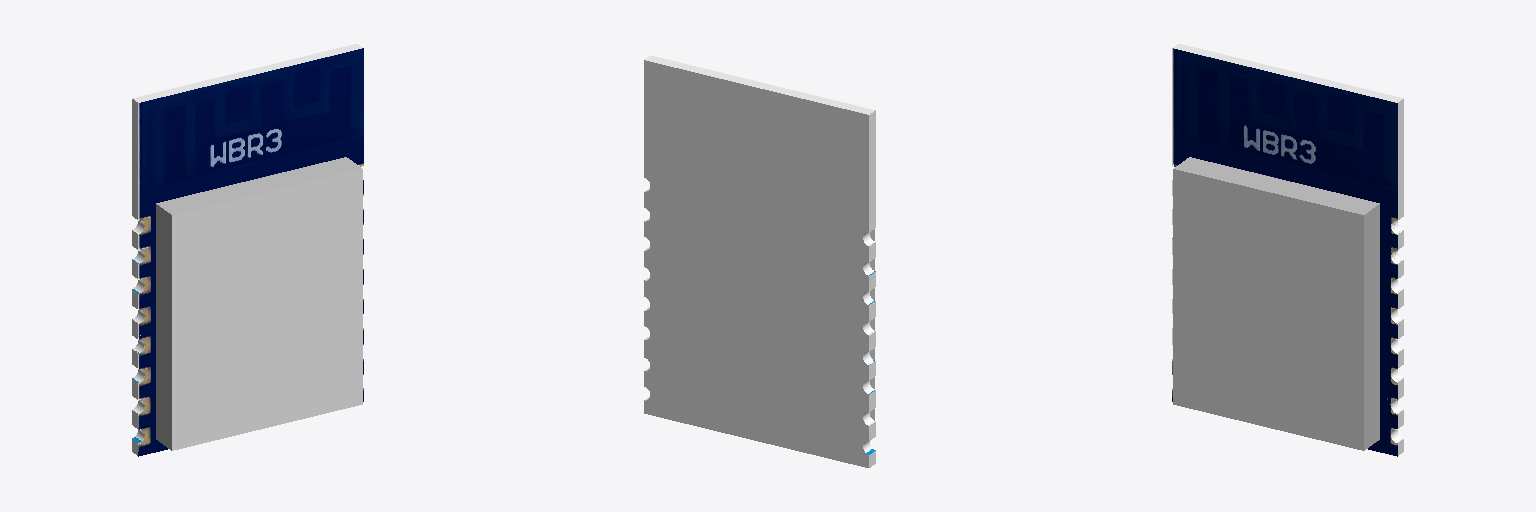
The picture shows the model from 3 angles: view 1: azimuth 30°, elevation 25°; view 2: azimuth 150°, elevation 25°; view 3: azimuth 330°, elevation 25°; orthographic projection.
Parts seen in each view (by area): view 1: Object.1, Object.2; view 2: Object.2; view 3: Object.1, Object.2.
Boxes of the visible parts, x1=… form: Object.1: x1=156, y1=157, x2=362, y2=450; Object.2: x1=132, y1=44, x2=363, y2=456; Object.2: x1=644, y1=55, x2=875, y2=467; Object.1: x1=1173, y1=157, x2=1379, y2=450; Object.2: x1=1172, y1=44, x2=1403, y2=456.
Size of the model in its own units: 15.99 by 23.99 by 2.8.
Materials: 4 (1 with a texture image).